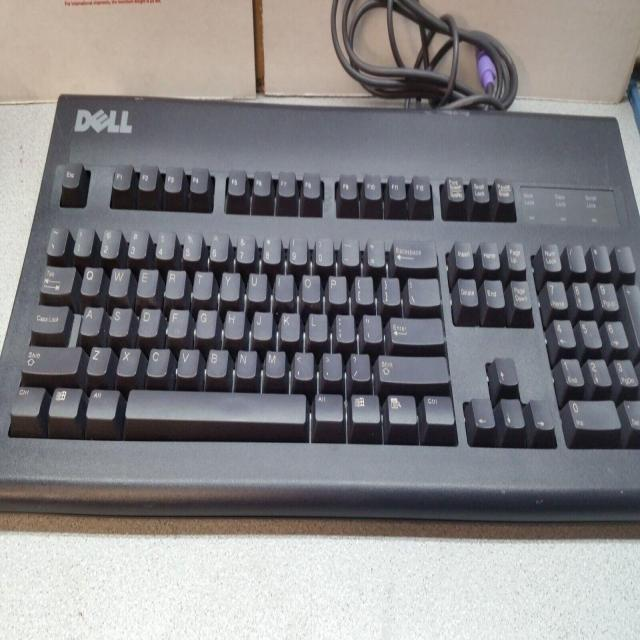keyboard: (0, 92, 640, 529)
